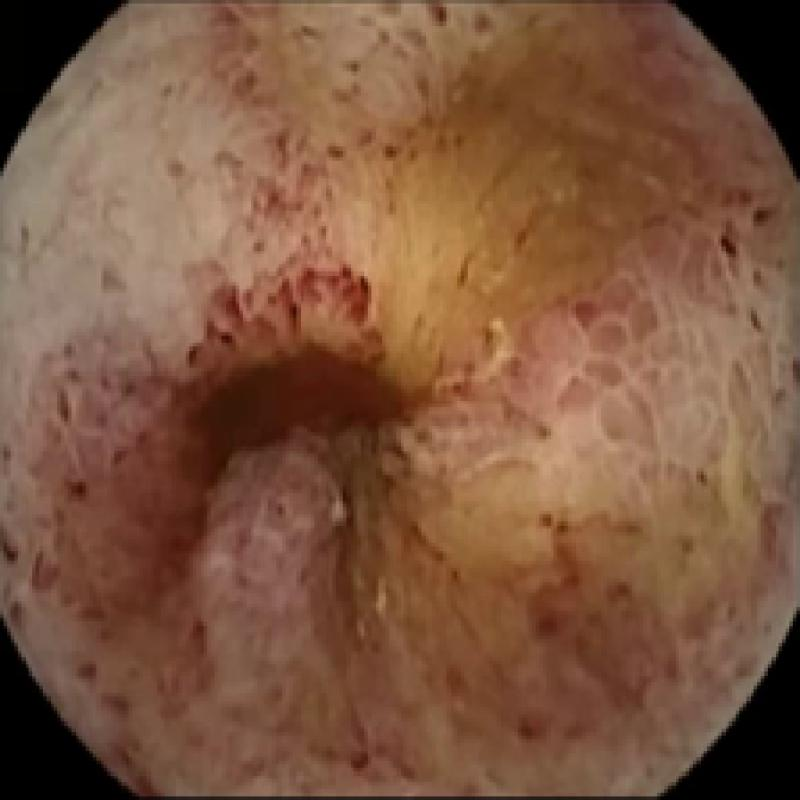bleeding: (140, 272, 439, 578)
